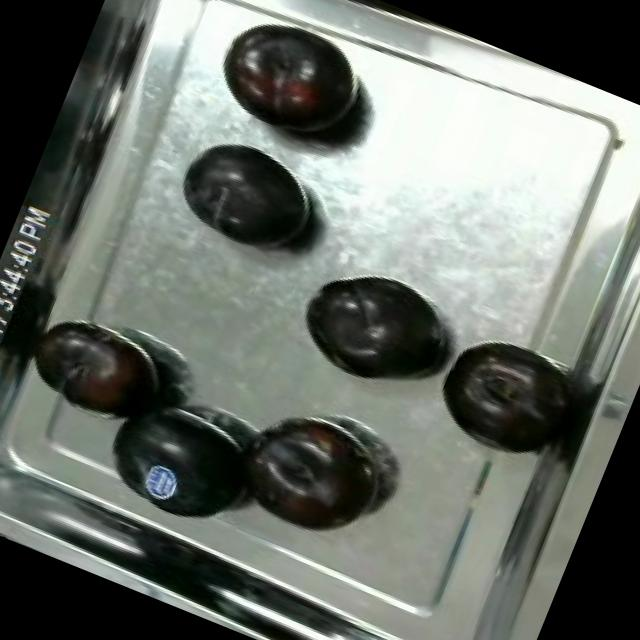Fruit: (80, 382, 270, 542), (280, 246, 466, 409), (200, 2, 385, 165), (156, 118, 342, 280), (220, 392, 398, 556), (14, 298, 182, 442), (424, 328, 563, 462)
